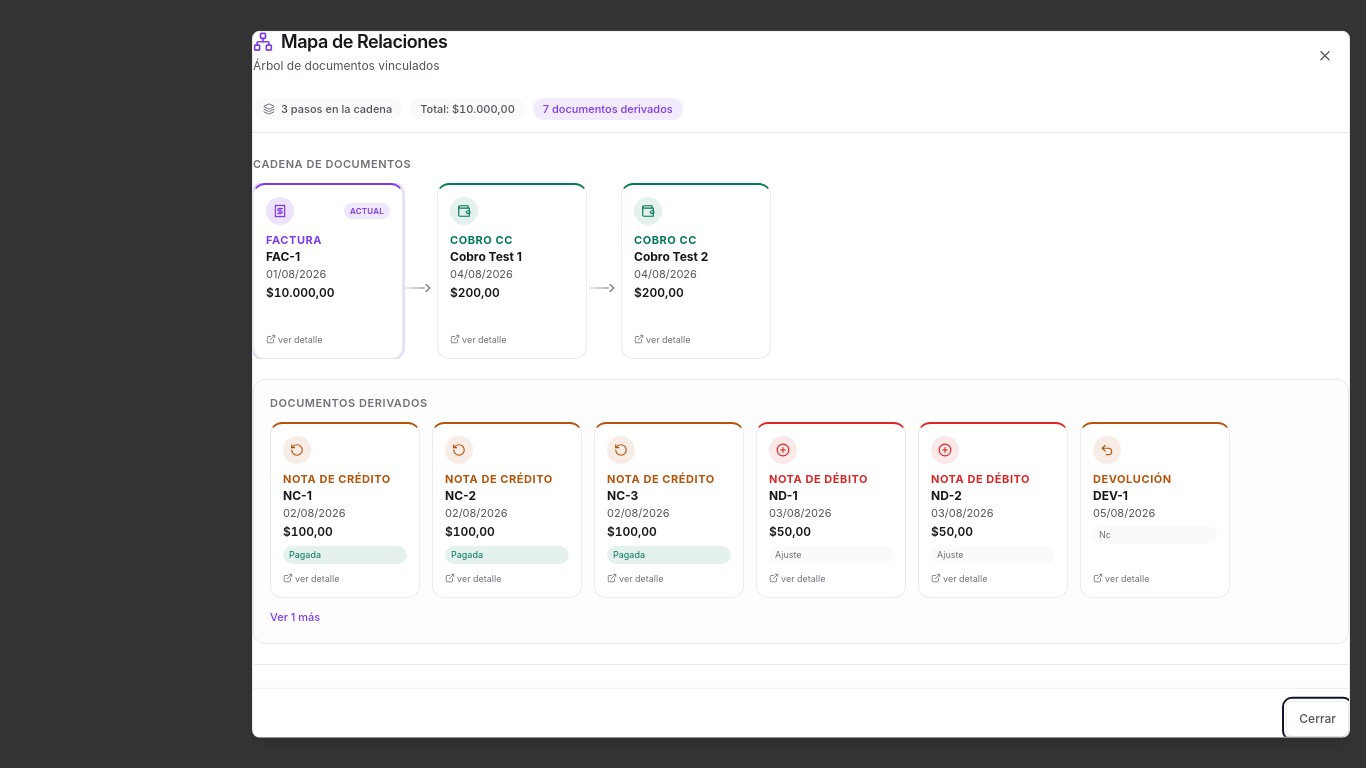
Scenario: MapaRelaciones — Fase 4: colapsar ramas largas de derivados › clic en "Ver N más" muestra el resto, y "Ver menos" los vuelve a ocultar
Expected: the text "NC-1" is shown, [283, 488, 312, 503]
Click the button "Ver 1 más": (295, 617) [270, 610, 320, 624]
(page scrolled)
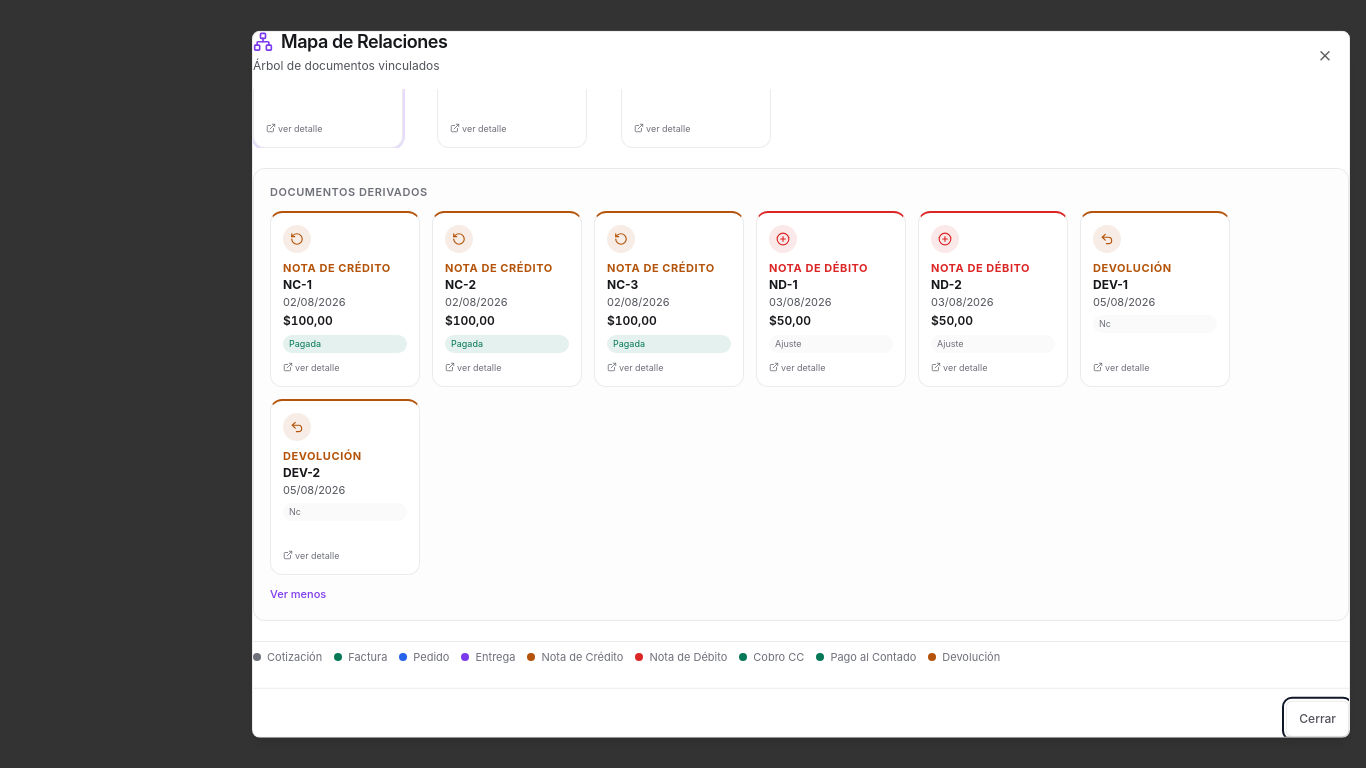
Result: the text "DEV-2" is shown at [283, 465, 320, 480]
Result: the button "Ver menos" is shown
Click the button "Ver menos": (298, 594) [270, 587, 326, 601]
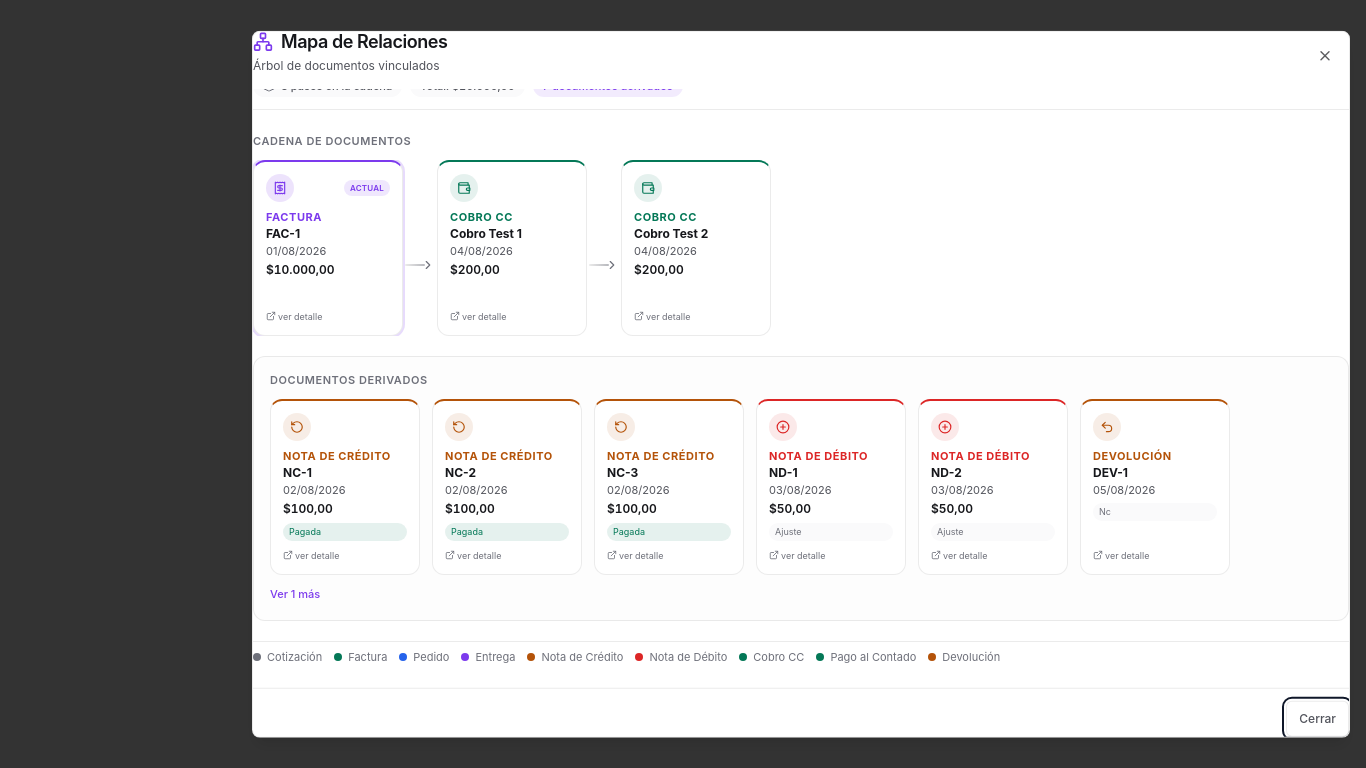
Result: the button "DEV-2" is gone
